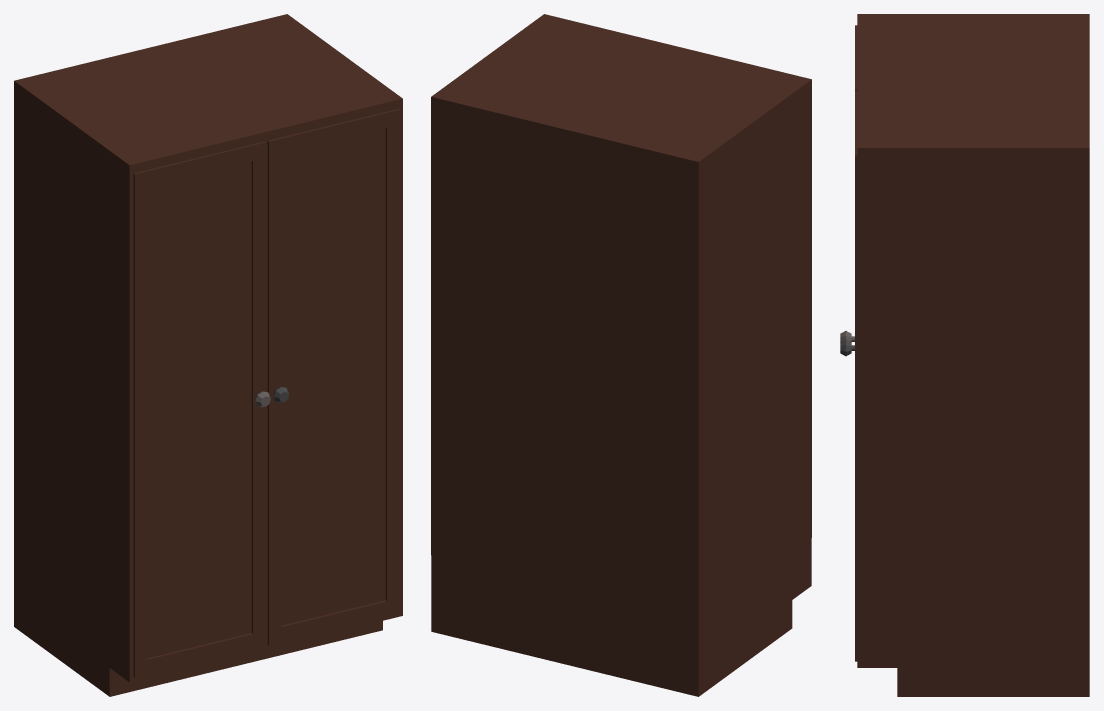
File: DoubleDoorTallCabinet1.glb
3 renders of one model, left to right at view 1: azimuth 30°, elevation 25°; view 2: azimuth 150°, elevation 25°; view 3: azimuth 270°, elevation 25°, orthographic. The views are drawn at different scales.
Visible parts, largest first — view 1: DoubleDoorTallCabinet1, DoorR1DoubleDoorTallCabinet1, DoorL1DoubleDoorTallCabinet1; view 2: DoubleDoorTallCabinet1; view 3: DoubleDoorTallCabinet1, DoorL1DoubleDoorTallCabinet1.
Boxes of the visible parts, left/top/right/bottom form: DoubleDoorTallCabinet1: left=14, top=14, right=402, bottom=696; DoorR1DoubleDoorTallCabinet1: left=133, top=141, right=270, bottom=677; DoorL1DoubleDoorTallCabinet1: left=267, top=109, right=399, bottom=645; DoubleDoorTallCabinet1: left=431, top=14, right=811, bottom=696; DoubleDoorTallCabinet1: left=857, top=14, right=1089, bottom=696; DoorL1DoubleDoorTallCabinet1: left=840, top=91, right=857, bottom=661.
Bounding box in the file's own units: 0.9371 × 1.79 × 0.7366.
